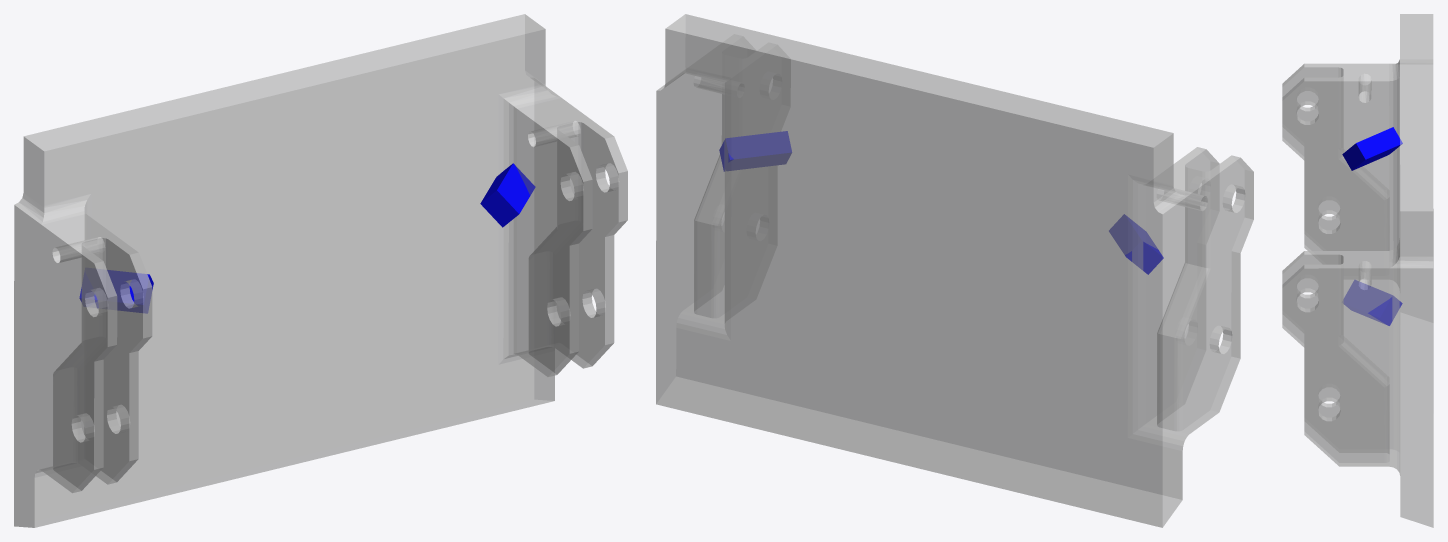
The model's file is demo_vertical_30.5m_s_0.5s.glb.
3 renders of one model, left to right at view 1: azimuth 30°, elevation 25°; view 2: azimuth 150°, elevation 25°; view 3: azimuth 270°, elevation 25°, orthographic. The views are drawn at different scales.
Parts seen in each view (by area): view 1: untitled, all_gate (6); view 2: untitled, all_gate (6); view 3: untitled, all_gate (6).
Part boxes in pixels (x1=…): untitled: x1=14, y1=14, x2=627, y2=527; all_gate (6): x1=79, y1=163, x2=535, y2=313; untitled: x1=656, y1=14, x2=1253, y2=527; all_gate (6): x1=719, y1=131, x2=1163, y2=274; untitled: x1=1282, y1=14, x2=1433, y2=527; all_gate (6): x1=1342, y1=127, x2=1402, y2=325.
Size of the model in its own units: 11.07 by 7.89 by 3.46.
